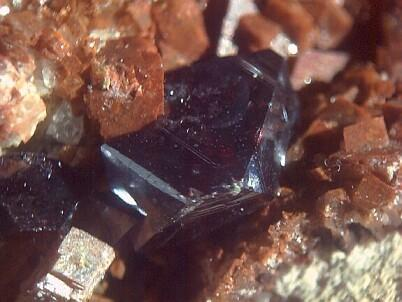cuprite: (76, 51, 299, 252), (0, 153, 77, 234)
